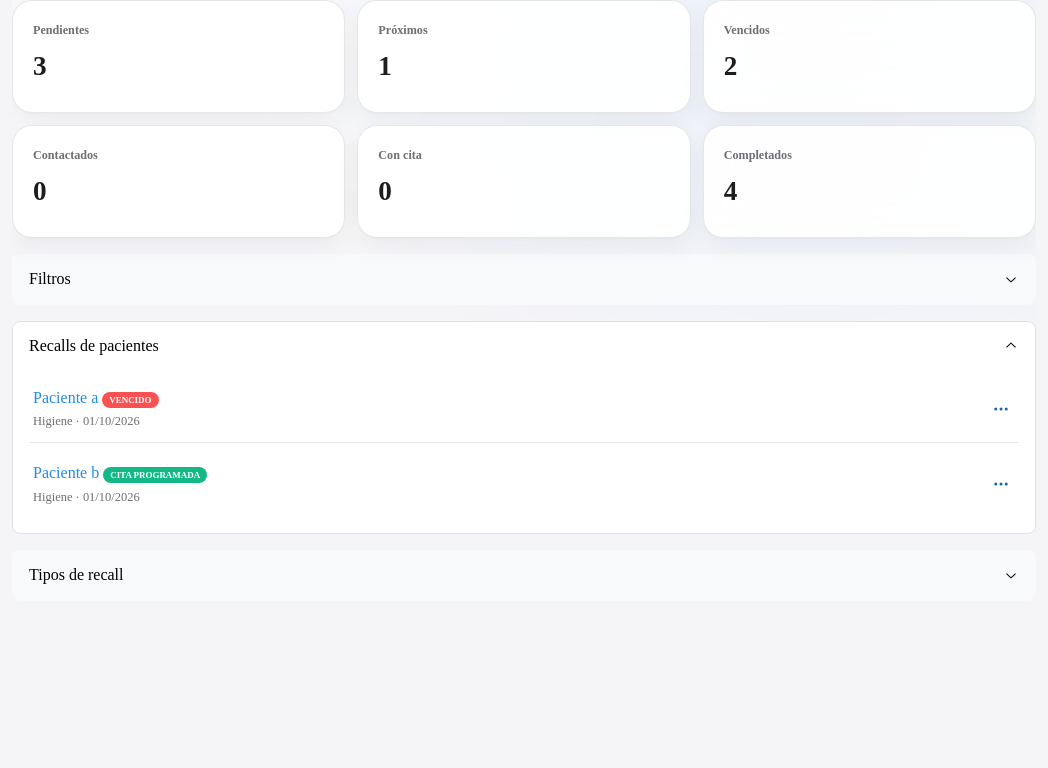
Test: RecallsModule › solo lectura: sin acciones de cambio ni creación de tipos
Click the button named "Acciones para Paciente a": point(1001, 409) [987,395,1015,423]
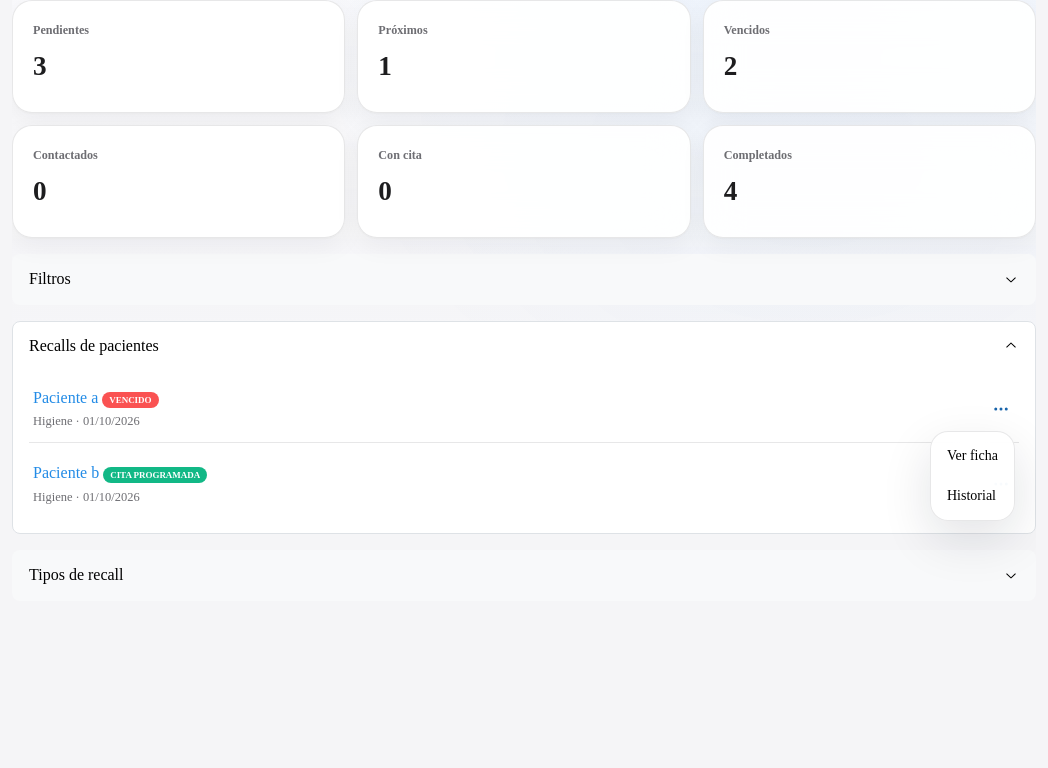
Now the menu item "Historial" is shown, box [935,476,1010,516]
